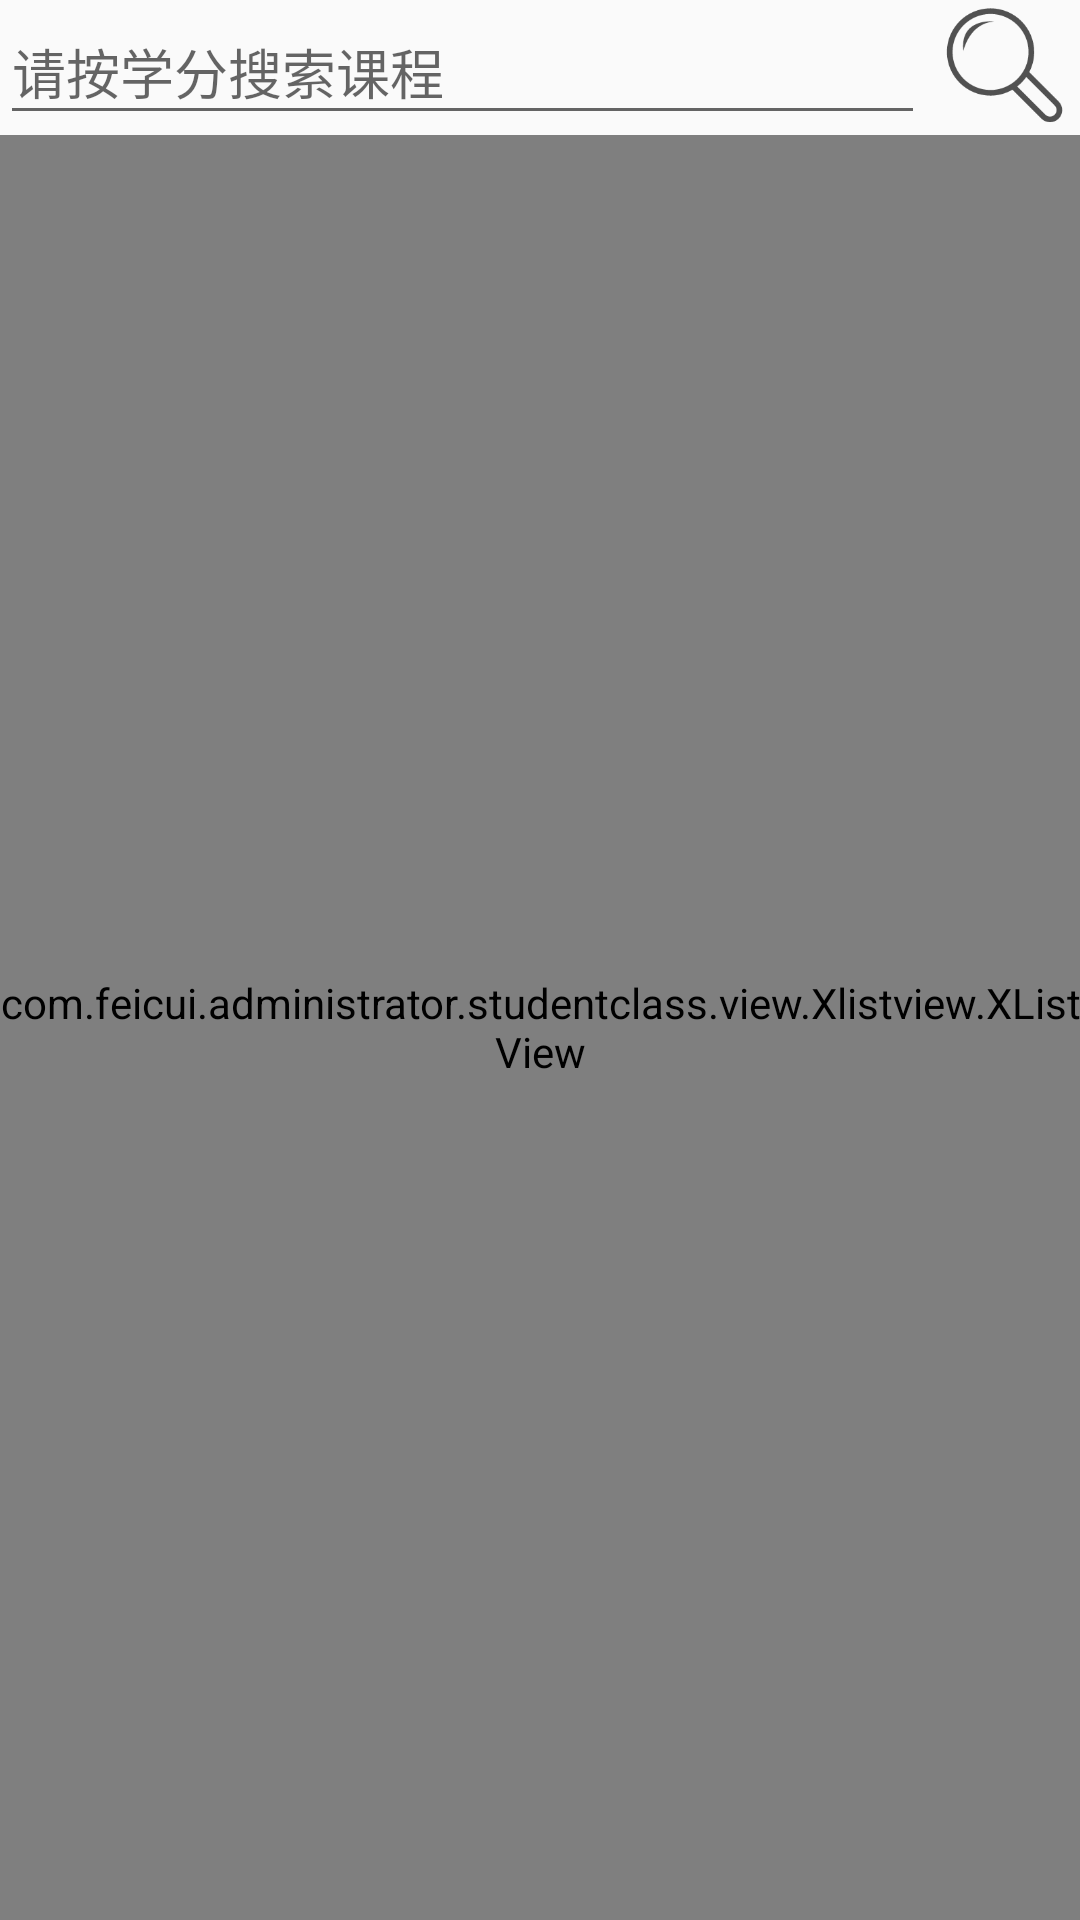

Screen size 1080px×1920px. Icon name, then its box in pixels as detection(x1, y1, x2, y2):
searchglass: detection(947, 8, 1063, 122)
